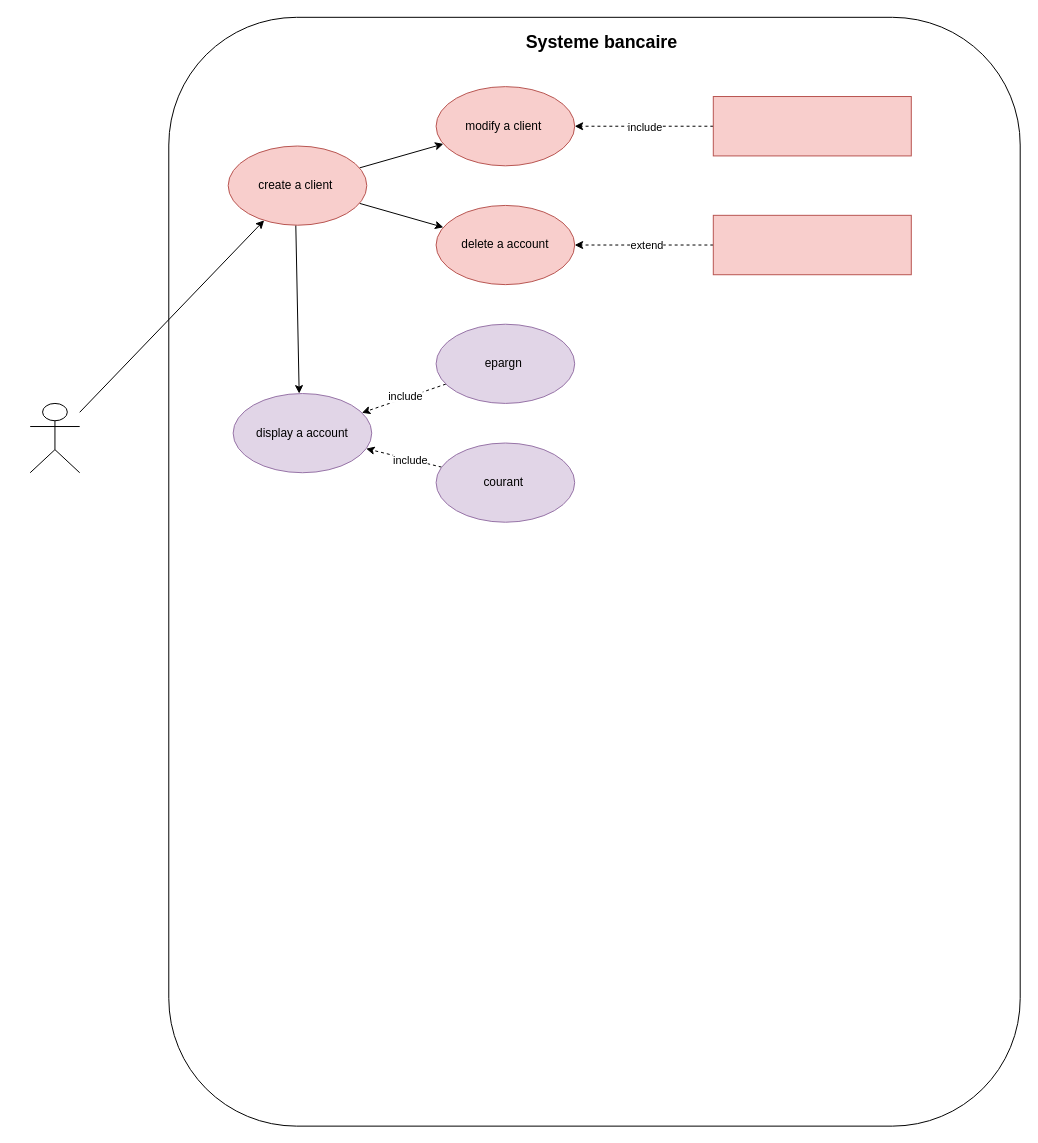
Image size: 1038x1143. Some labels were removed from this diagram. The centre of each missing label's shape, as x and y in pixels:
"Administrateur" goes at pixel 54 437.
"if there is no acc courant / epargn" goes at pixel 811 244.
"validation of the new email" goes at pixel 811 126.
